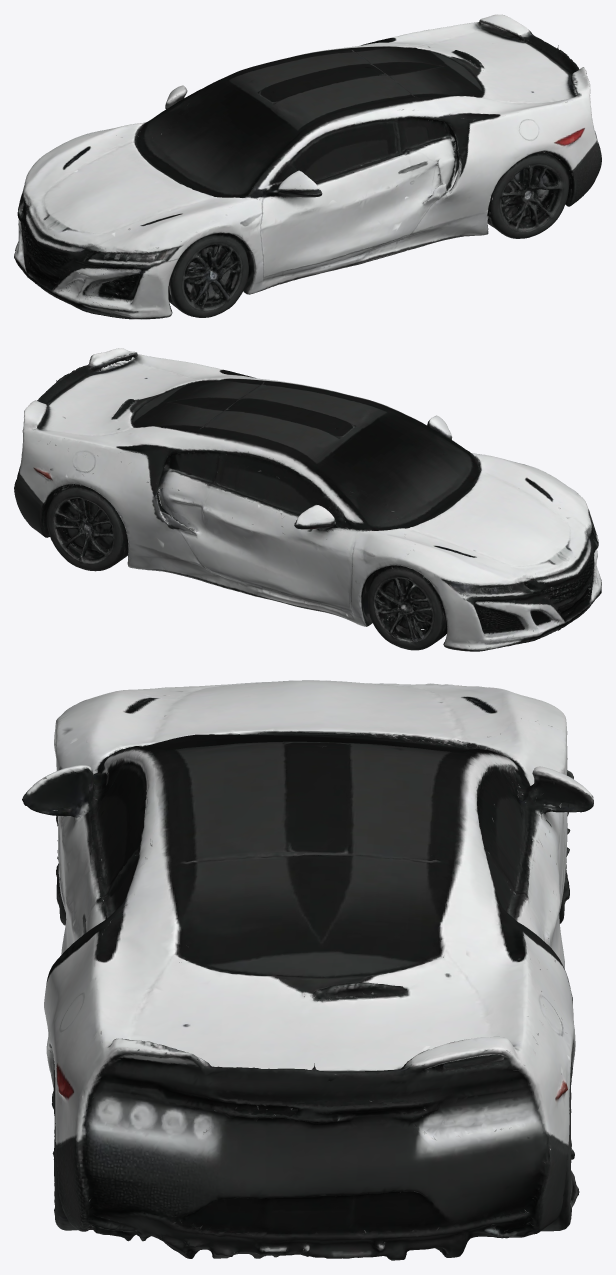
Rendered from HONDA.glb.
3 renders of one model, top to bottom at view 1: azimuth 30°, elevation 25°; view 2: azimuth 150°, elevation 25°; view 3: azimuth 270°, elevation 25°, orthographic. The views are drawn at different scales.
Parts seen in each view (by area): view 1: Mesh_0; view 2: Mesh_0; view 3: Mesh_0.
Boxes of the visible parts, left/top/right/bottom form: Mesh_0: left=14, top=14, right=601, bottom=319; Mesh_0: left=14, top=348, right=601, bottom=651; Mesh_0: left=22, top=680, right=593, bottom=1260.
Size of the model in its own units: 2 by 0.5455 by 0.9371.
Materials: 1 (1 with a texture image).
